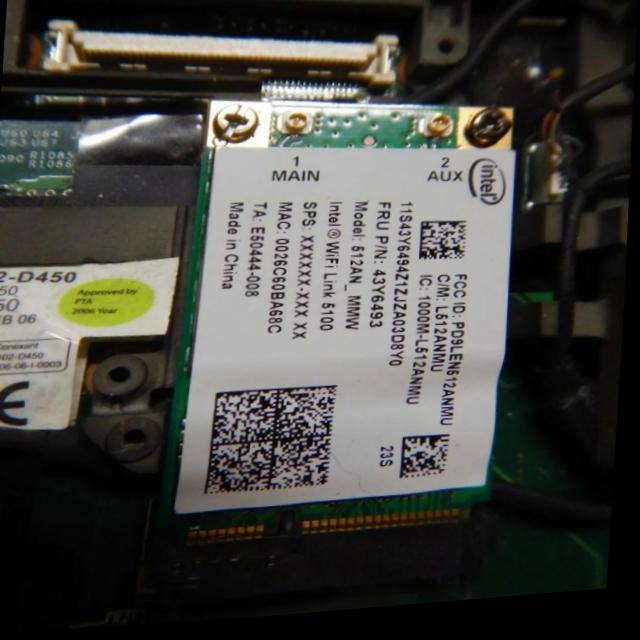datamatrix: (208, 389, 342, 501), (404, 441, 455, 488), (421, 226, 470, 270)
